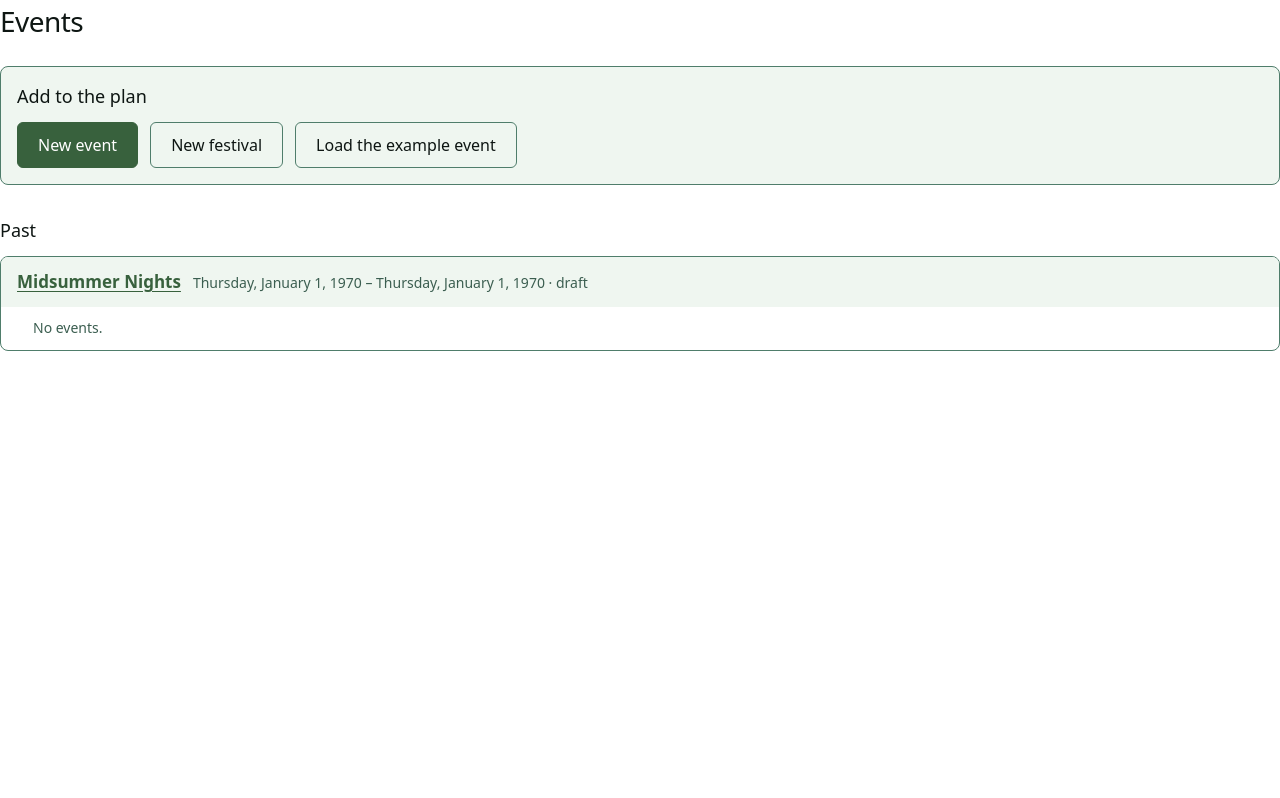
EventsView › opens the event form on demand, without a festival picker
Click the button "New event": (78, 145) x1=17 y1=122 x2=138 y2=168
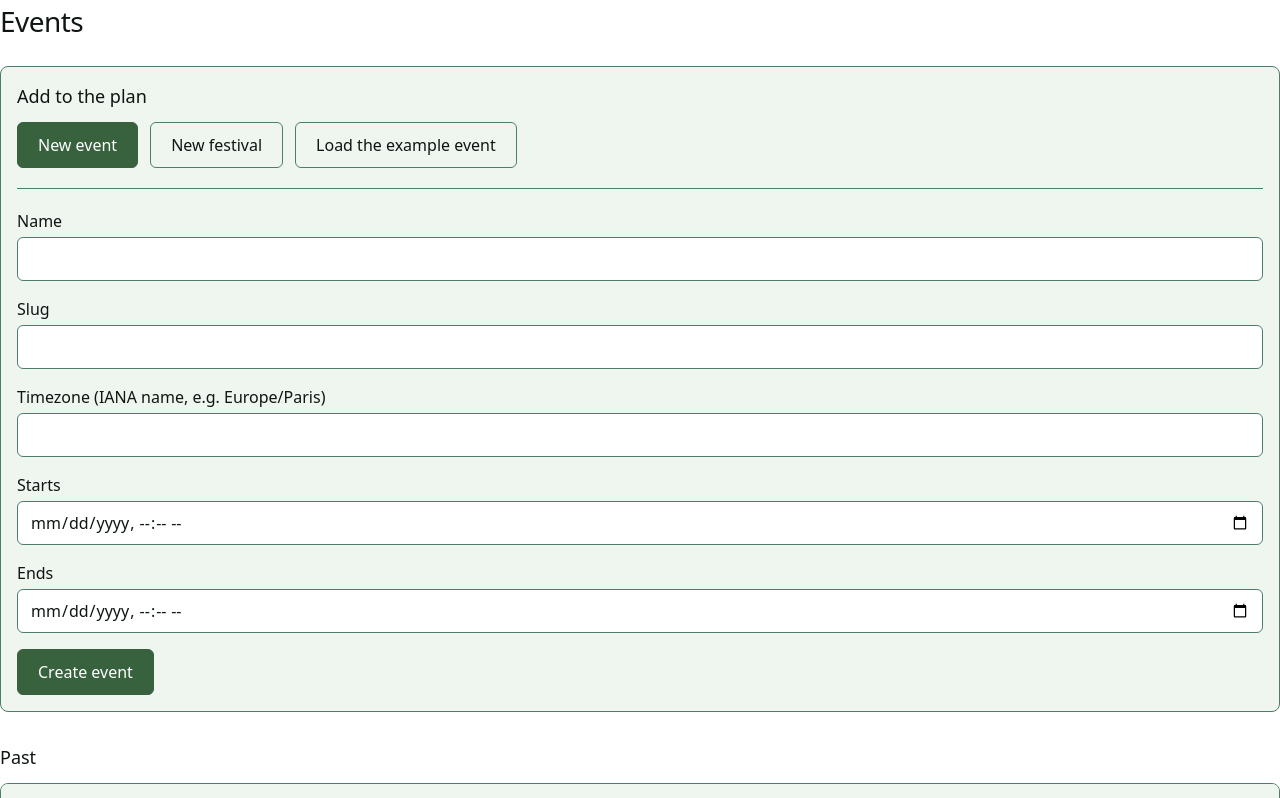
Check: the element with id "create-form" is shown
